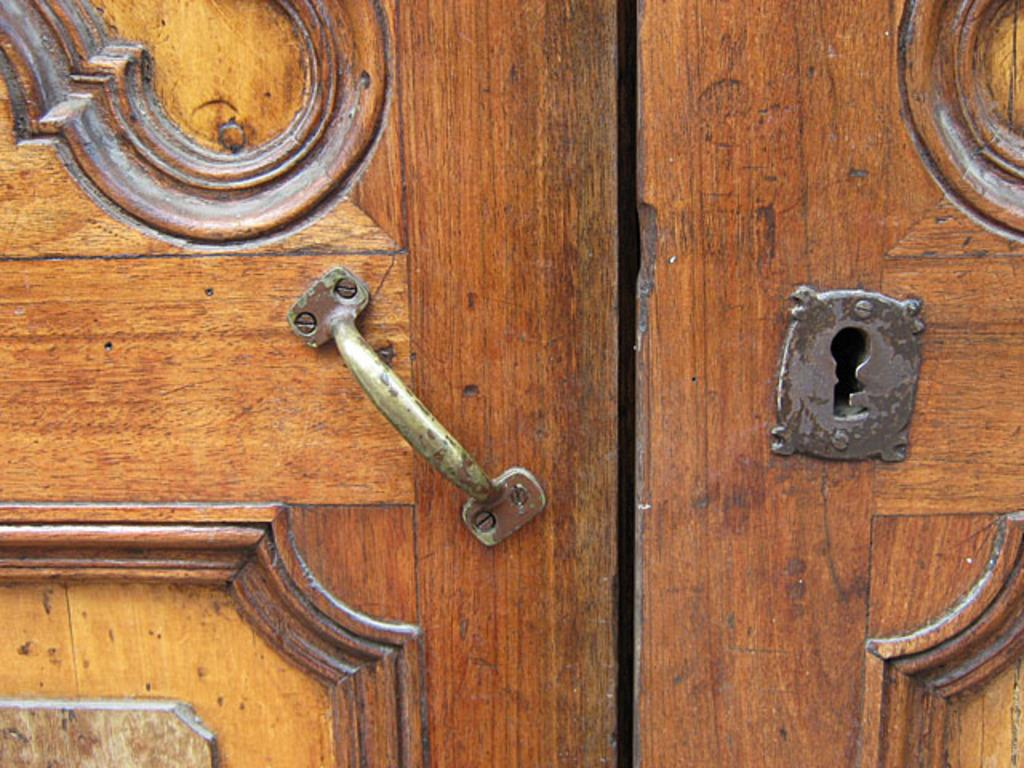handle: (276, 293, 557, 543)
